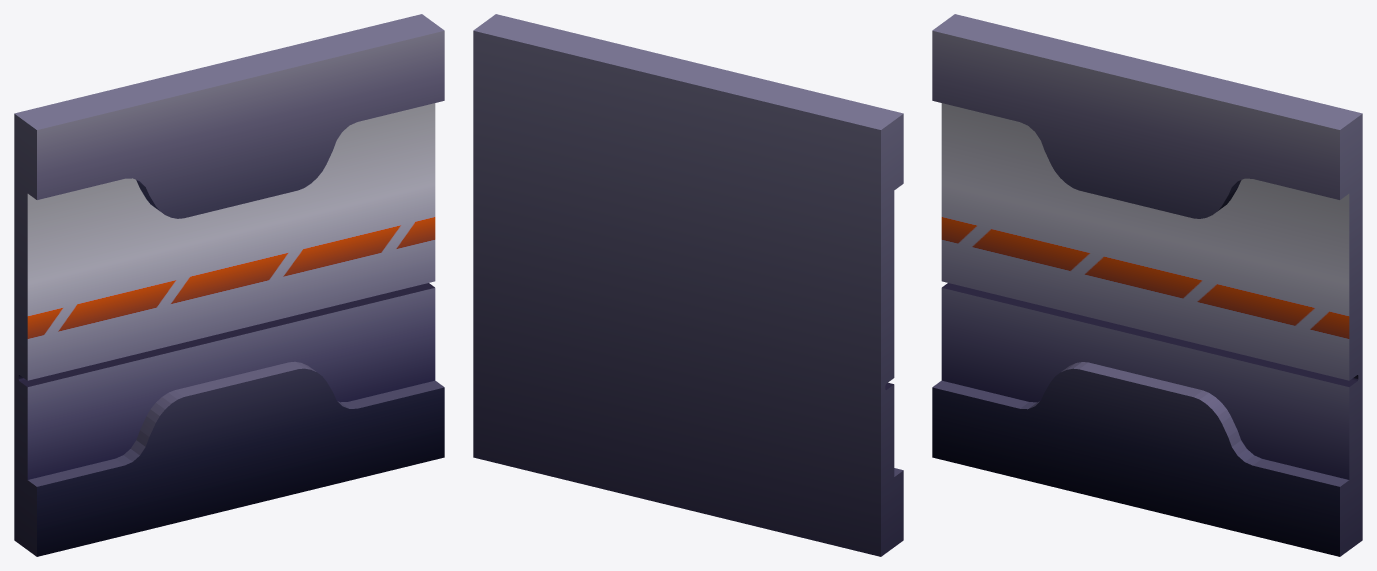
Rendered from Wall_Plain.fbx.
The picture shows the model from 3 angles, left to right: view 1: azimuth 30°, elevation 25°; view 2: azimuth 150°, elevation 25°; view 3: azimuth 330°, elevation 25°; orthographic projection.
Visible parts, largest first — view 1: TEXTURED_WT_PlainWall.001; view 2: TEXTURED_WT_PlainWall.001; view 3: TEXTURED_WT_PlainWall.001.
Part boxes in pixels (<box>): TEXTURED_WT_PlainWall.001: <box>14,14,444,556</box>; TEXTURED_WT_PlainWall.001: <box>473,14,903,556</box>; TEXTURED_WT_PlainWall.001: <box>932,14,1362,556</box>.
Size of the model in its own units: 2 by 2 by 0.1934.
1 material, 1 textured.
